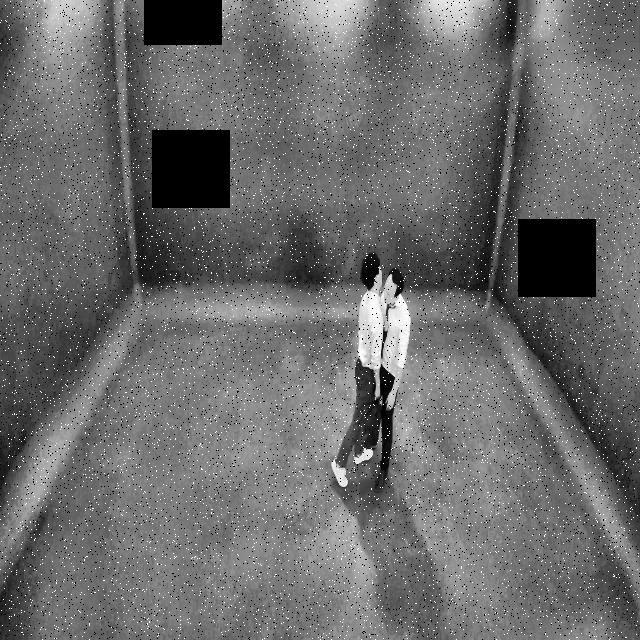assult: (325, 228, 418, 523), (353, 253, 411, 399)
